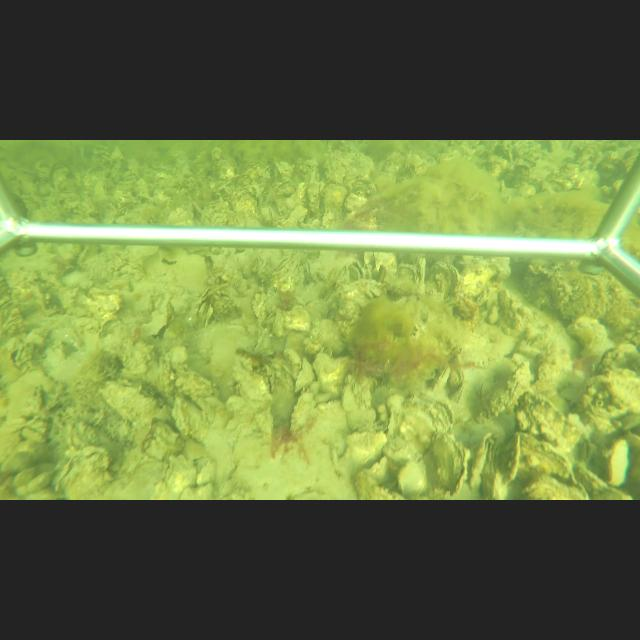Oyster-Closed: (395, 391, 455, 464), (514, 430, 572, 490), (57, 446, 113, 500), (516, 392, 566, 446), (430, 430, 470, 494), (170, 394, 212, 446), (429, 259, 461, 301), (320, 182, 348, 230), (469, 432, 493, 486), (397, 459, 428, 497), (501, 434, 522, 486), (204, 198, 236, 232), (230, 185, 258, 223), (209, 153, 237, 181), (274, 178, 298, 210), (26, 471, 54, 492), (432, 361, 450, 393), (396, 261, 416, 287), (416, 257, 426, 293), (304, 258, 316, 282), (452, 384, 466, 404), (277, 256, 289, 272), (456, 366, 466, 384), (323, 289, 337, 301)
Oyster-Open: (8, 340, 34, 370), (194, 287, 212, 321), (350, 258, 364, 282)
